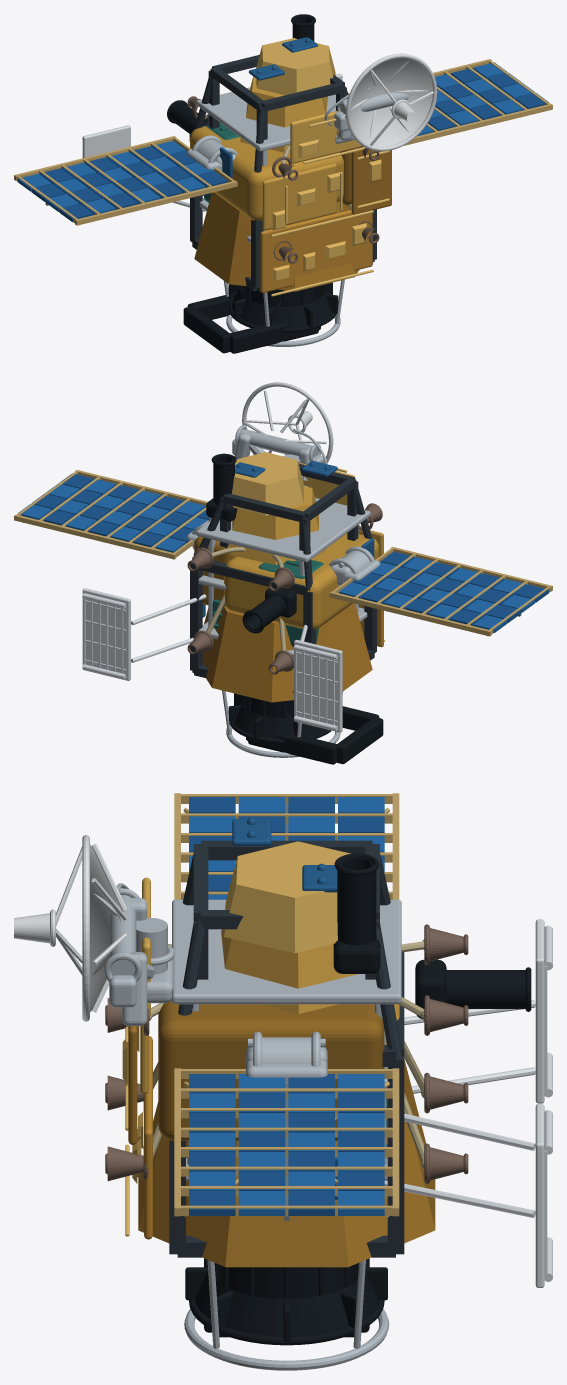
Rendered from earth_observation_satellite.glb.
3 renders of one model, top to bottom at view 1: azimuth 30°, elevation 25°; view 2: azimuth 150°, elevation 25°; view 3: azimuth 270°, elevation 25°, orthographic. The views are drawn at different scales.
Visible parts, largest first — view 1: thermal_blankets, solar_array_port, telescope_baffle, high_gain_antenna, solar_array_starboard, spacecraft_bus, structural_deck, star_trackers, radiator_panels, thruster_cluster, antenna_gimbal, sun_sensors (+1 smaller); view 2: thermal_blankets, solar_array_port, solar_array_starboard, radiator_panels, spacecraft_bus, telescope_baffle, structural_deck, star_trackers, thruster_cluster, antenna_gimbal, high_gain_antenna, solar_gimbal_port (+2 smaller); view 3: thermal_blankets, solar_array_starboard, structural_deck, telescope_baffle, spacecraft_bus, solar_array_port, star_trackers, radiator_panels, thruster_cluster, high_gain_antenna, antenna_gimbal, solar_gimbal_starboard (+2 smaller).
Boxes of the visible parts, left/top/right/bottom form: thermal_blankets: left=190, top=38, right=391, bottom=296; solar_array_port: left=14, top=136, right=237, bottom=225; telescope_baffle: left=183, top=282, right=338, bottom=353; high_gain_antenna: left=346, top=53, right=437, bottom=151; solar_array_starboard: left=348, top=59, right=552, bottom=145; spacecraft_bus: left=190, top=55, right=376, bottom=291; structural_deck: left=196, top=87, right=344, bottom=346; star_trackers: left=167, top=14, right=315, bottom=141; radiator_panels: left=82, top=73, right=342, bottom=211; thruster_cluster: left=187, top=96, right=379, bottom=263; antenna_gimbal: left=324, top=88, right=408, bottom=143; sun_sensors: left=219, top=37, right=318, bottom=177; thermal_blankets: left=194, top=452, right=384, bottom=702; solar_array_port: left=329, top=547, right=552, bottom=636; solar_array_starboard: left=14, top=470, right=209, bottom=559; radiator_panels: left=82, top=588, right=342, bottom=732; spacecraft_bus: left=190, top=463, right=376, bottom=693; telescope_baffle: left=228, top=693, right=383, bottom=764; structural_deck: left=196, top=498, right=370, bottom=757; star_trackers: left=206, top=453, right=296, bottom=633; thruster_cluster: left=187, top=503, right=382, bottom=674; antenna_gimbal: left=232, top=425, right=327, bottom=486; high_gain_antenna: left=242, top=382, right=333, bottom=463; solar_gimbal_port: left=329, top=546, right=380, bottom=585; thermal_blankets: left=122, top=841, right=435, bottom=1267; solar_array_starboard: left=174, top=1068, right=399, bottom=1220; structural_deck: left=172, top=899, right=401, bottom=1370; telescope_baffle: left=185, top=1258, right=387, bottom=1345; spacecraft_bus: left=169, top=840, right=404, bottom=1257; solar_array_port: left=174, top=793, right=399, bottom=899; star_trackers: left=333, top=853, right=531, bottom=1018; radiator_panels: left=384, top=919, right=552, bottom=1287; thruster_cluster: left=105, top=924, right=468, bottom=1184; high_gain_antenna: left=14, top=835, right=127, bottom=1021; antenna_gimbal: left=104, top=883, right=174, bottom=1025; solar_gimbal_starboard: left=246, top=1031, right=327, bottom=1085.
Size of the model in its own units: 5.05 by 3 by 2.77.
